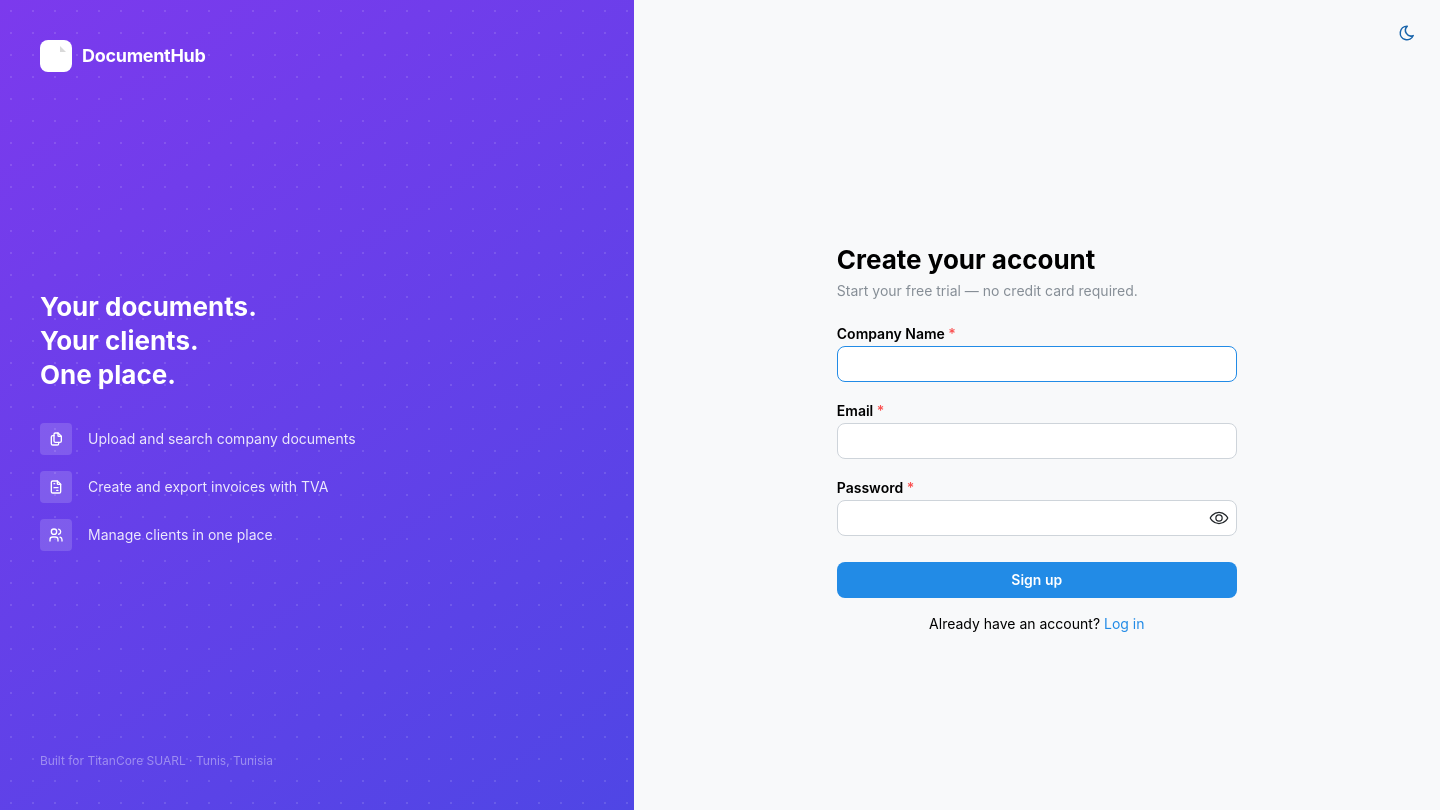
Test: shows error message when email is already taken
Type "Acme Corp" into the field labelled "Company Name *".
click(1037, 364); type("Acme Corp")  # box [837,346,1237,382]
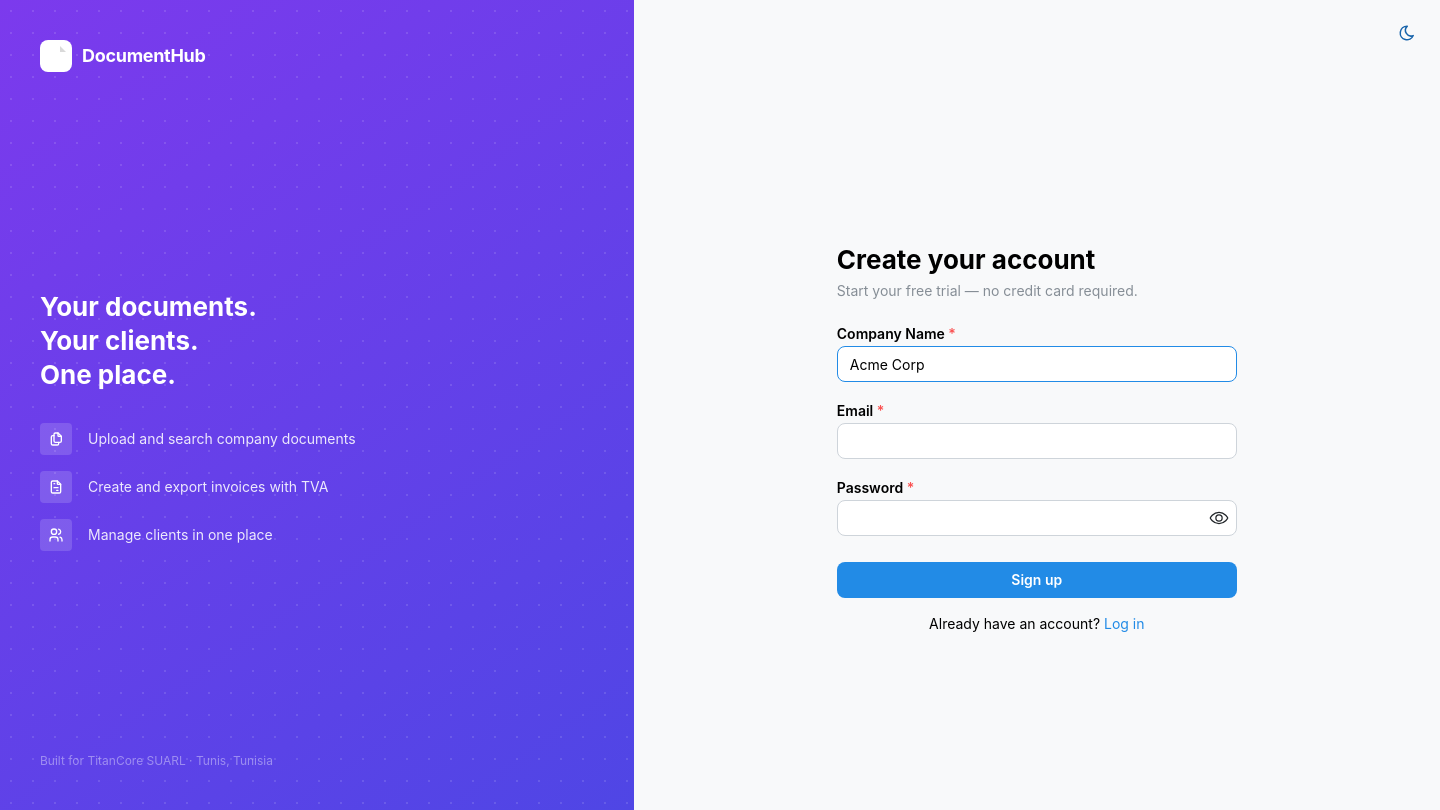
Type "taken@example.com" into the field labelled "Email *".
click(1037, 441); type("taken@example.com")  # box [837,423,1237,459]
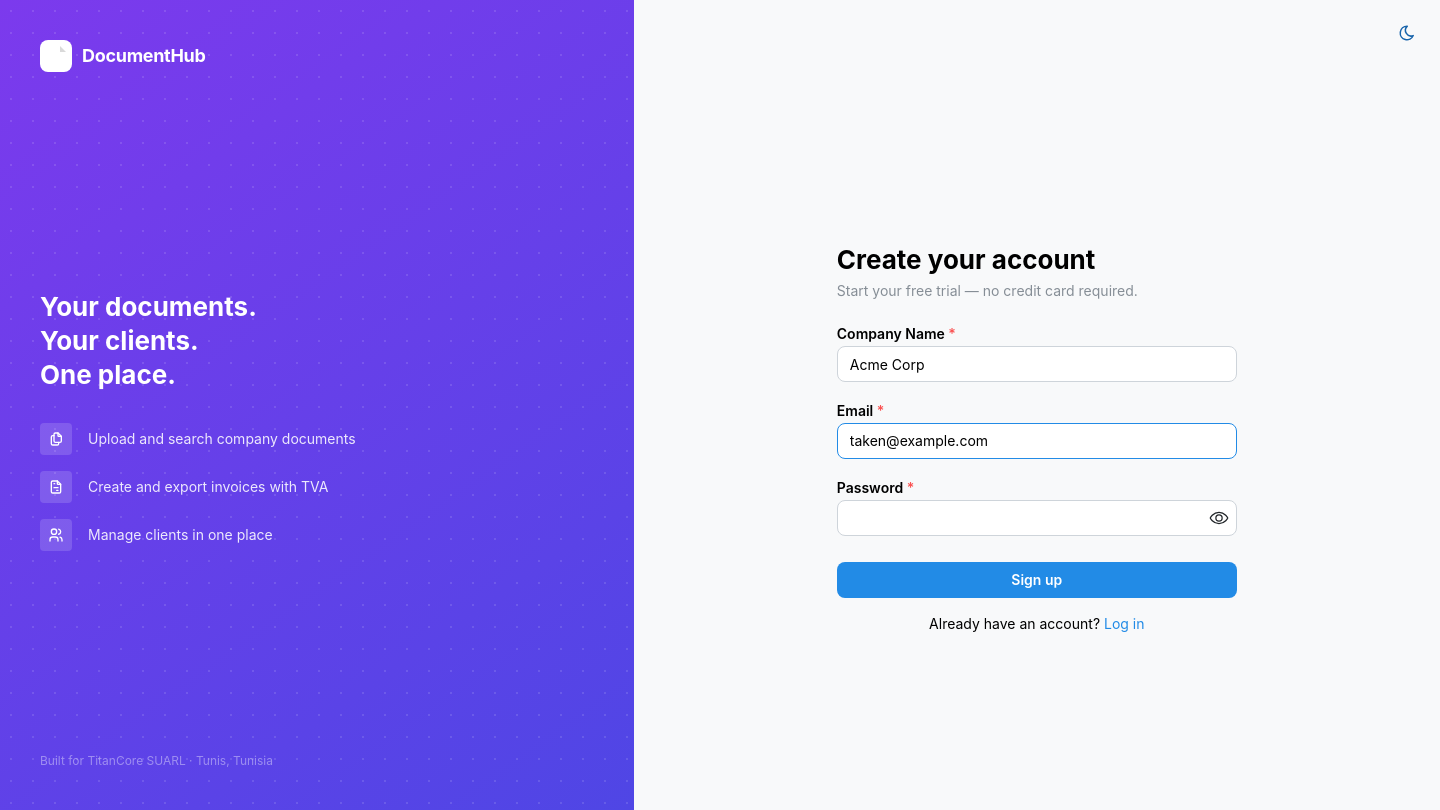
Type "SecurePass123!" into the password field labelled "Password *".
click(1037, 518); type("SecurePass123!")  # box [838,501,1236,535]
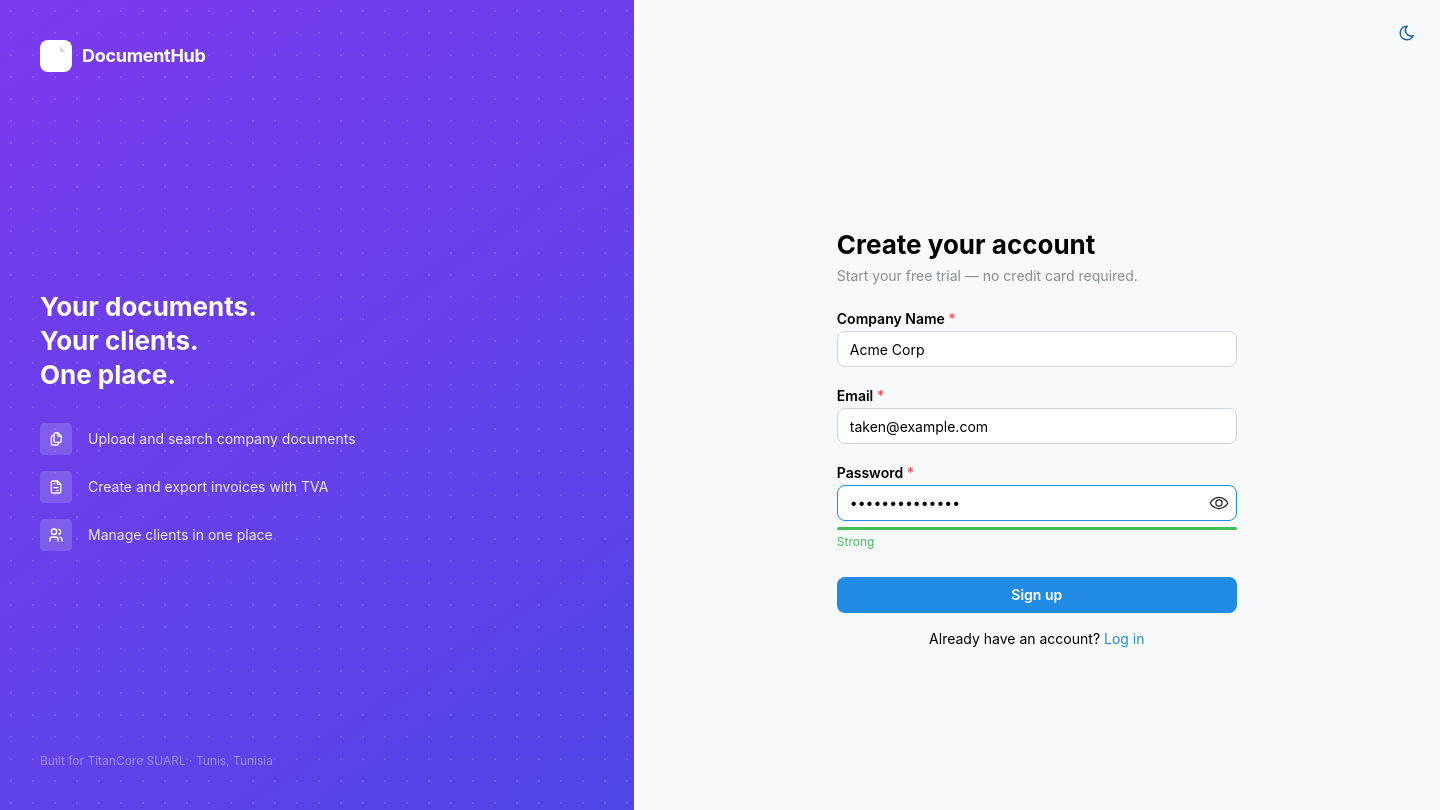
Click the button "Sign up".
click(1037, 595)  # box [837,577,1237,613]
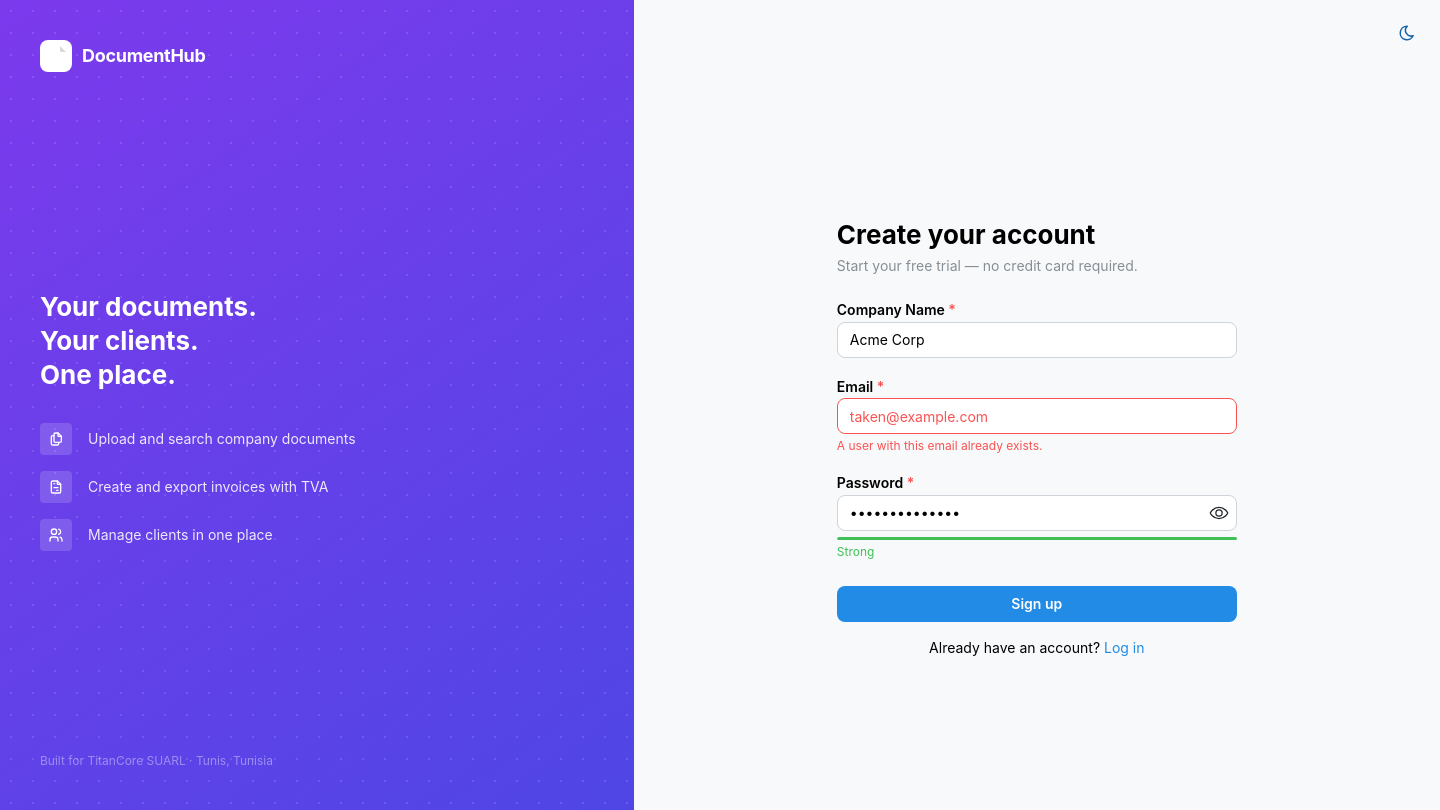
Expected: the text "A user with this email already exists." is shown, [837,438,1042,453]
